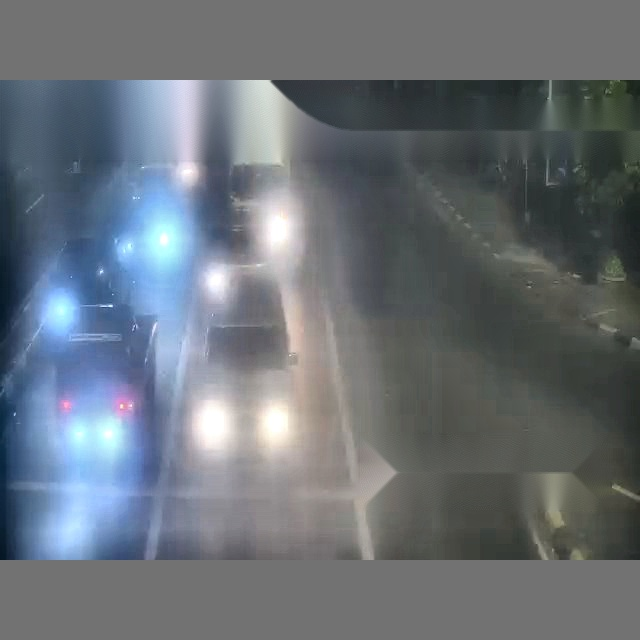Bis: (0, 68, 208, 558)
